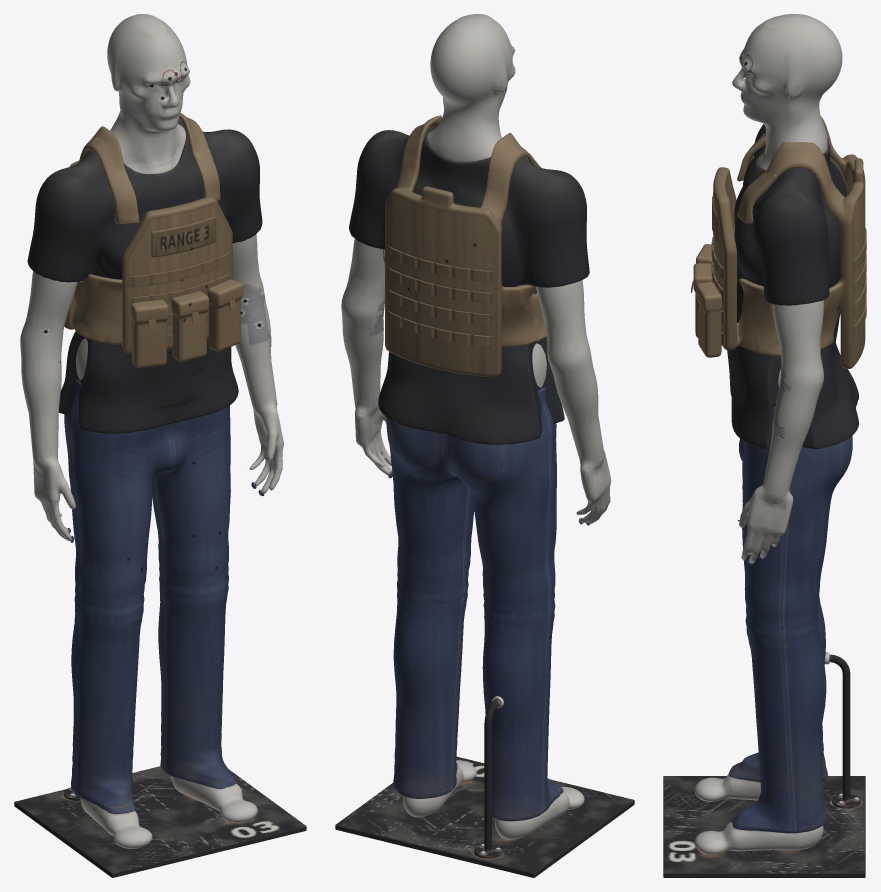
File: mannequin.glb
3 views of the same model, side by side, from view 1: azimuth 30°, elevation 25°; view 2: azimuth 150°, elevation 25°; view 3: azimuth 270°, elevation 25° (orthographic). The views are drawn at different scales.
Visible parts, largest first — view 1: Mannequin; view 2: Mannequin; view 3: Mannequin.
Boxes of the visible parts, box(x1,y1,x2,y2) form: Mannequin: box(14, 14, 306, 877); Mannequin: box(335, 14, 634, 877); Mannequin: box(663, 14, 866, 877).
Bounding box in the file's own units: 0.6002 × 1.86 × 0.4221.
Materials: 1 (1 with a texture image).
